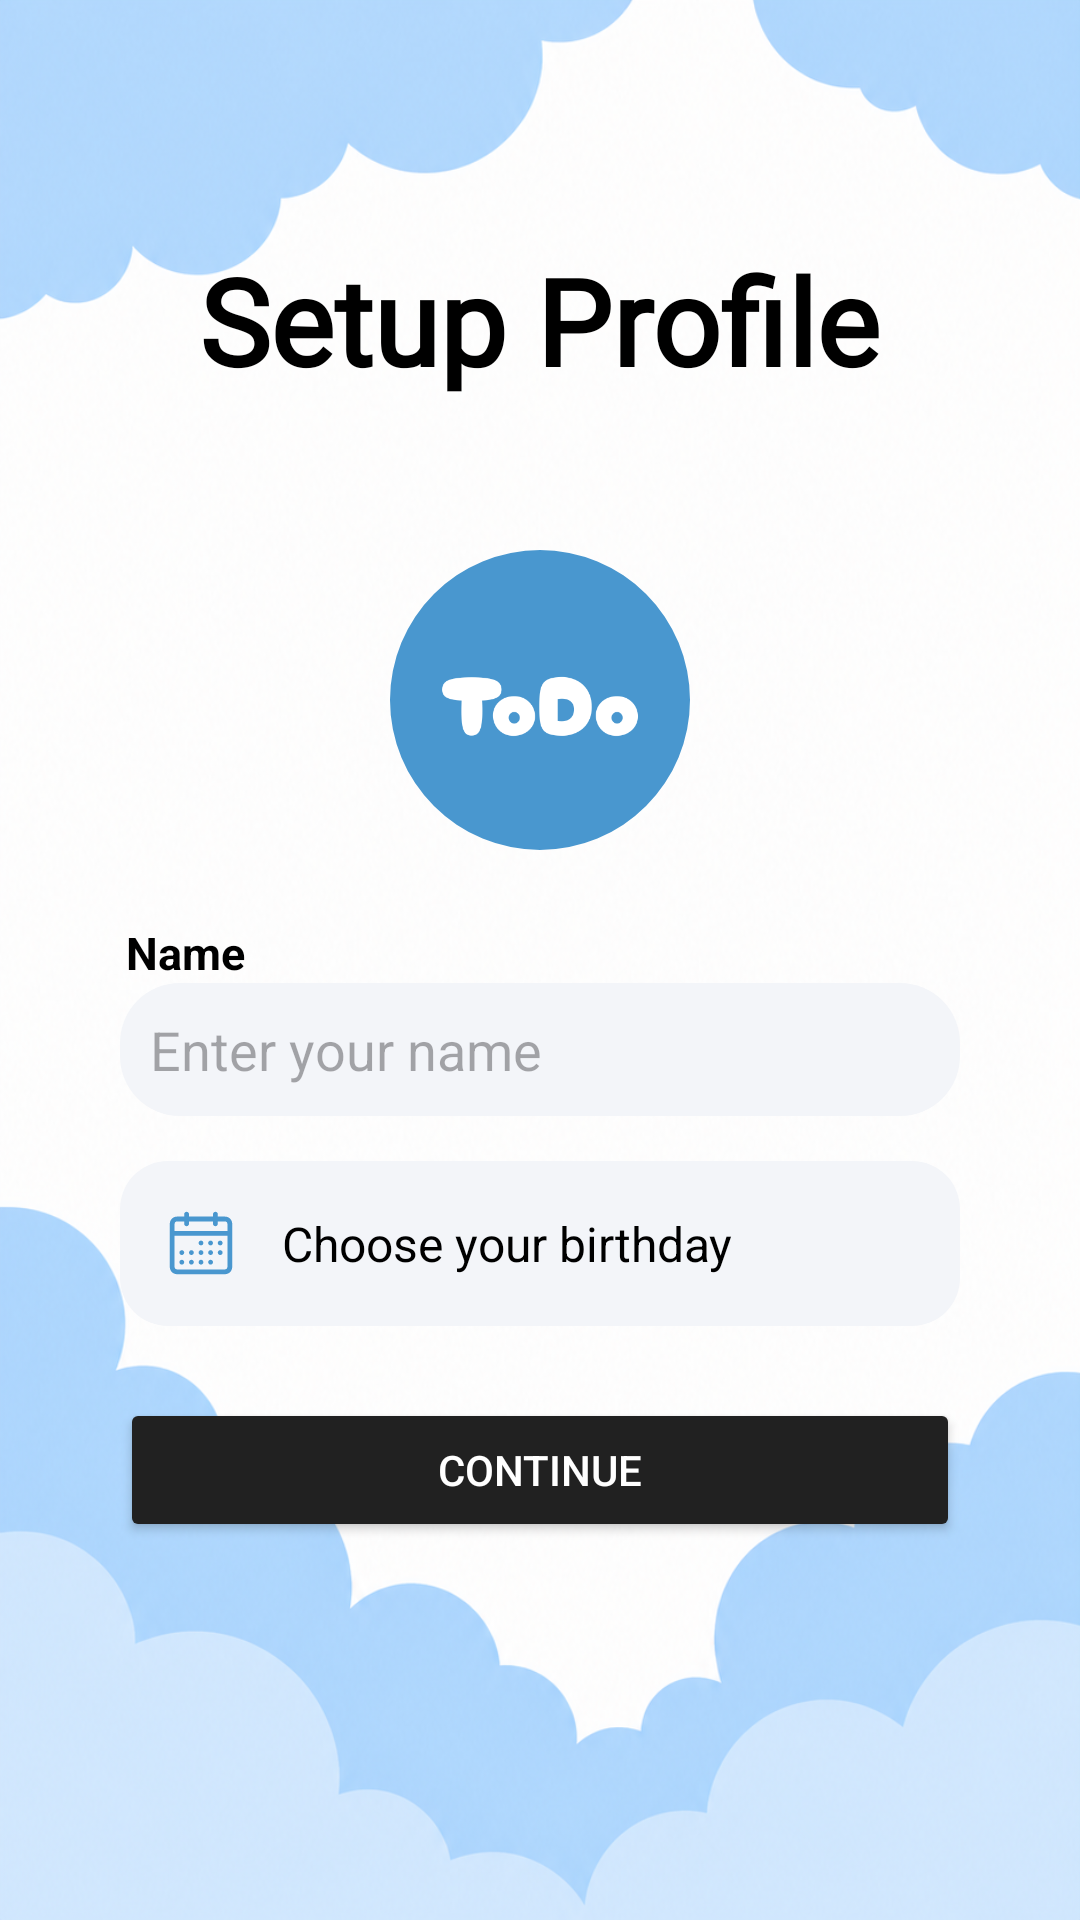

Named icons in this screenshot (1080w x 1920h) and their bounding boxes, {"left": x1, "top": y1, "right": x2, "bottom": y2}:
calendar: {"left": 169, "top": 1211, "right": 233, "bottom": 1275}
